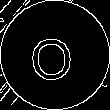O_N: (31, 28, 79, 82)
